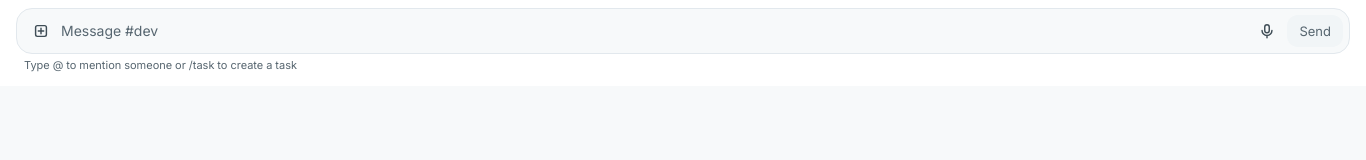
Test: Composer › offers only real slash commands and completes them with Tab or Enter
Type "/" into the text box labelled "Message" at [654, 31], box [61,15,1247,47]
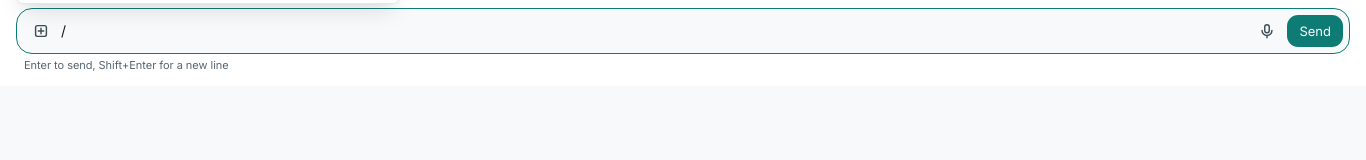
Type "st" into the text box named "Message" at [654, 31], box [61,15,1247,47]
Then press Tab
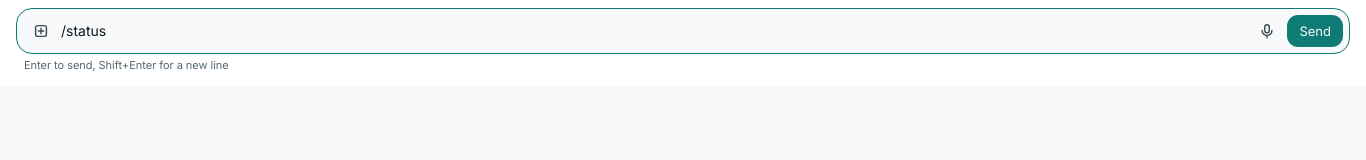
Check: the text box named "Message" holds "/status "
Replace the text in the text box named "Message" with "/la" at [654, 31], box [61,15,1247,47]
Then press Enter
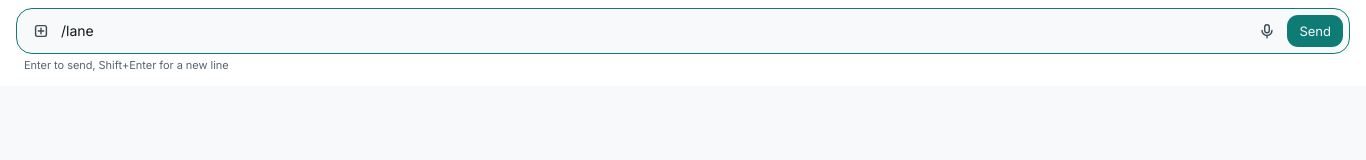
Check: the text box named "Message" holds "/lane ", box [61,15,1247,47]
